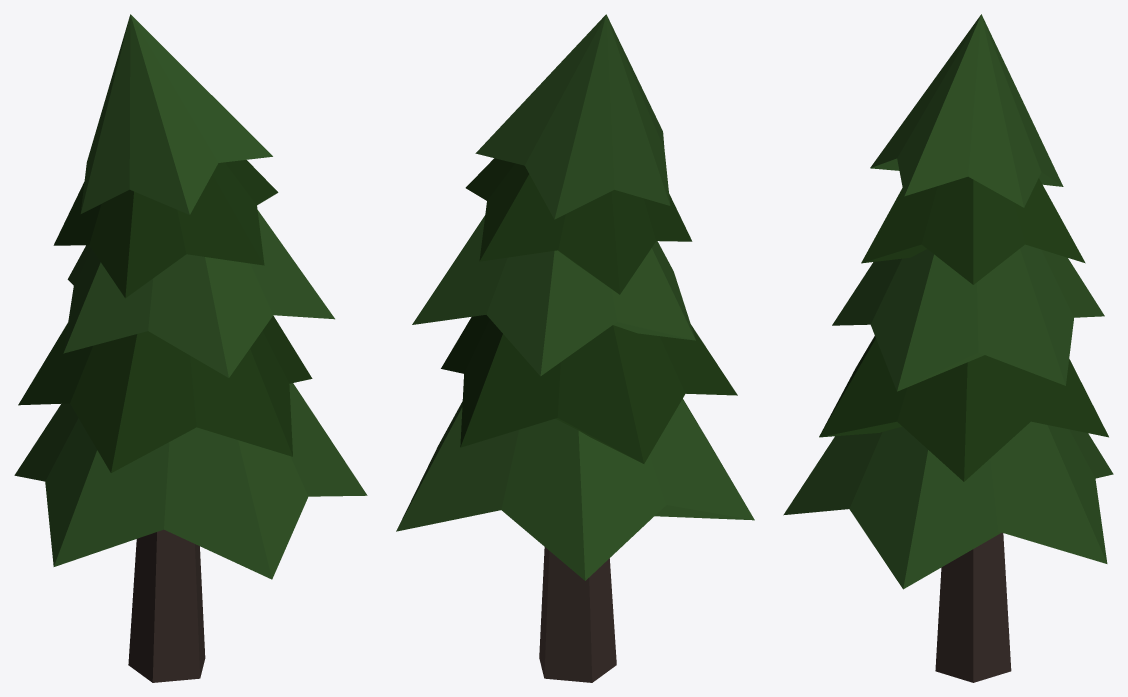
File: tree3.fbx
3 renders of one model, left to right at view 1: azimuth 30°, elevation 25°; view 2: azimuth 150°, elevation 25°; view 3: azimuth 270°, elevation 25°, orthographic. The views are drawn at different scales.
Visible parts, largest first — view 1: polySurface30; view 2: polySurface30; view 3: polySurface30.
Boxes of the visible parts, x1,y1,x2,y2 form: polySurface30: (14, 14, 367, 682); polySurface30: (396, 14, 754, 682); polySurface30: (783, 14, 1113, 682).
Size of the model in its own units: 17.64 by 35.94 by 16.93.
